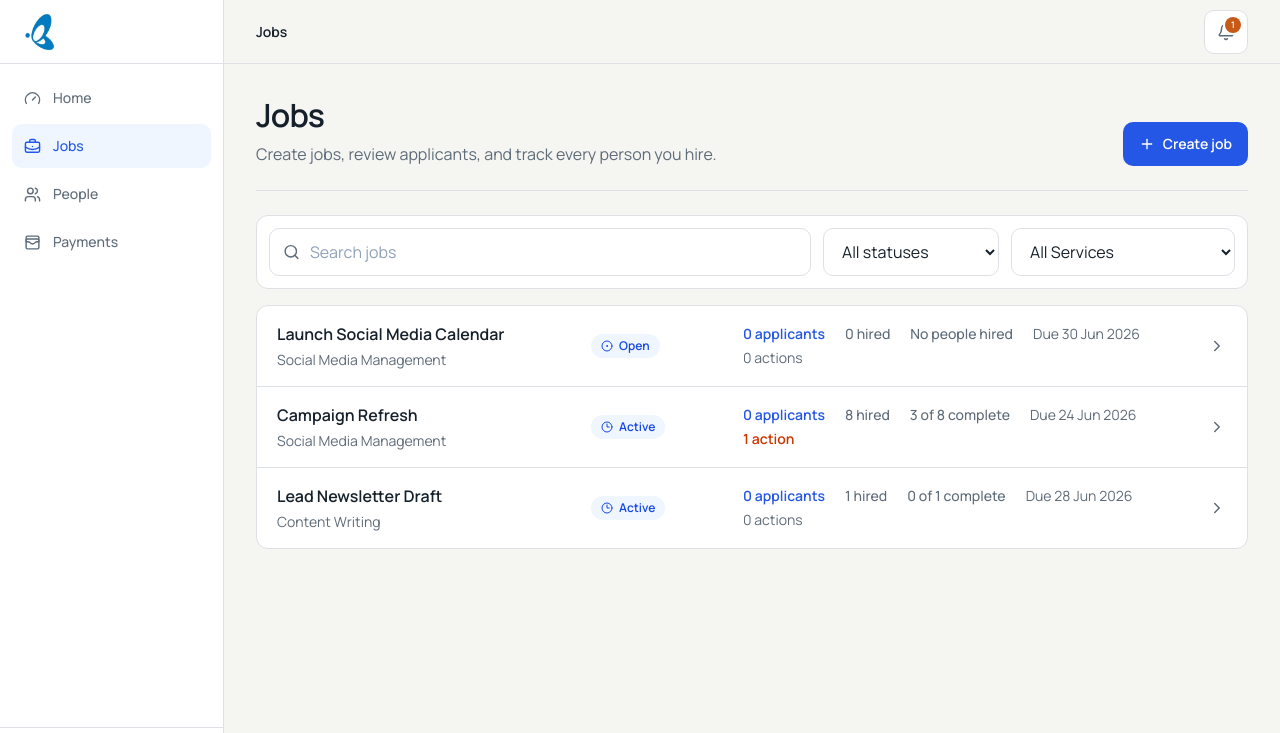
Test: application routing › shows a structured Job directory and complete brief
Expected: the link "Create job" is shown, [1123,122,1248,166]
Click the link named "Open Launch Social Media Calendar". click: (1217, 346)
box: [1207,337,1227,355]
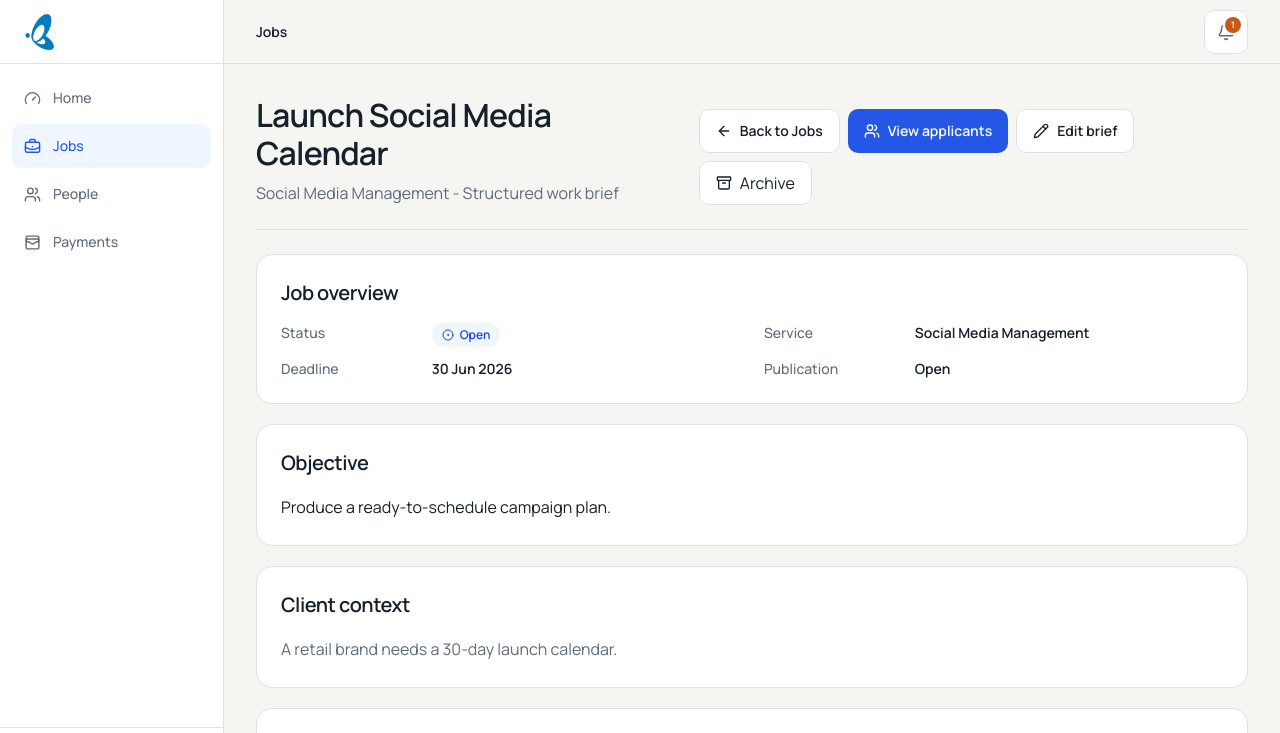
Result: the heading "Launch Social Media Calendar" is shown at [256,93,551,175]
Result: the text "Produce a ready-to-schedule campaign plan." is shown at [281,496,611,518]
